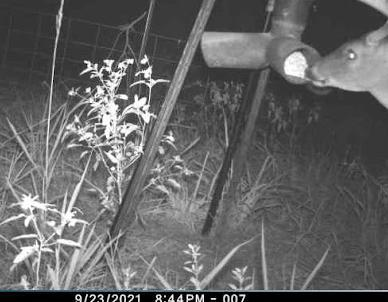Deer: (302, 0, 388, 140)
